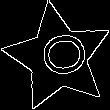O_W: (29, 32, 87, 83)
